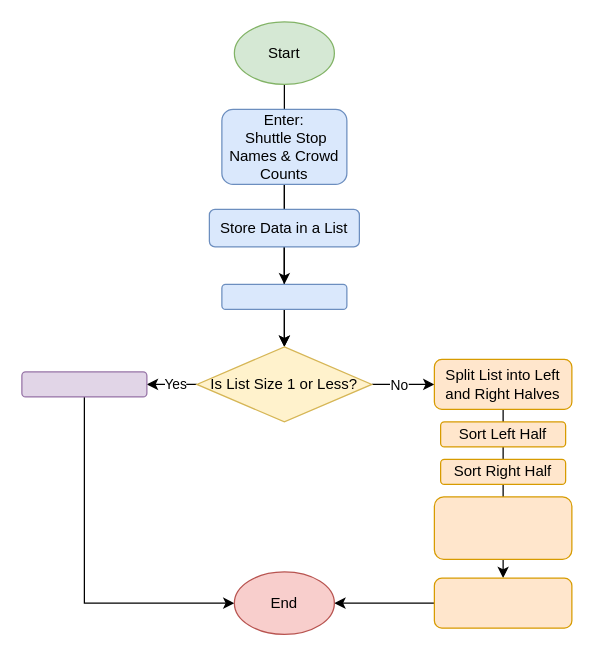
Some shapes in this 594 by 656 pixel diagram are drawn without their labels. Here are the shapes that lost their labels. From the top down, the box of each, then its label:
(221, 283, 347, 309): Apply Merge Sort
(21, 371, 147, 397): Return List
(433, 496, 572, 559): Compare and Merge Halves in Order
(433, 577, 572, 628): Display Sorted Shuttle Stops
